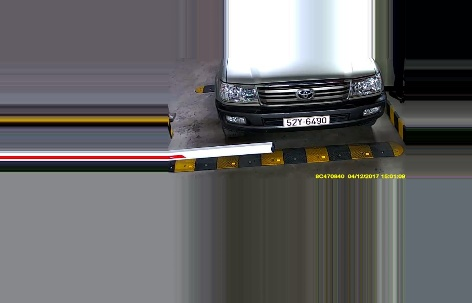plate: (281, 115, 330, 127)
